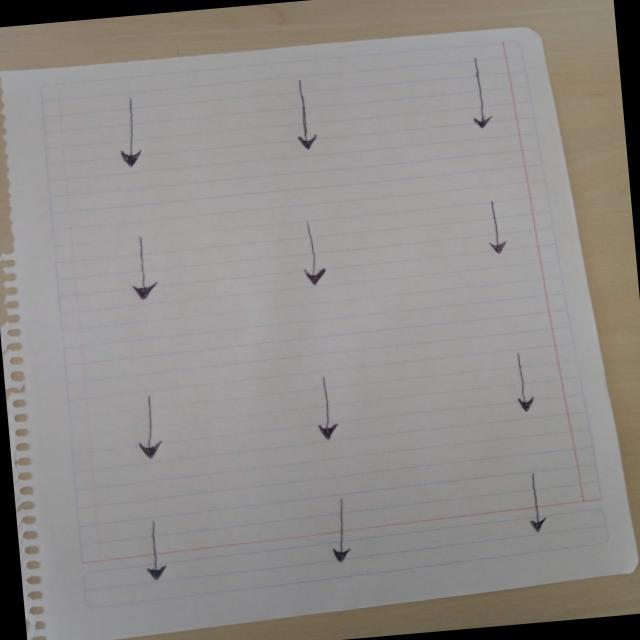arrow_line_down: (450, 56, 507, 140), (505, 468, 564, 541), (107, 90, 157, 172), (320, 492, 370, 574), (303, 375, 362, 444), (501, 348, 555, 422), (112, 232, 169, 302), (280, 80, 324, 158), (288, 219, 338, 287), (123, 395, 169, 466), (136, 514, 180, 586), (474, 198, 520, 256)
